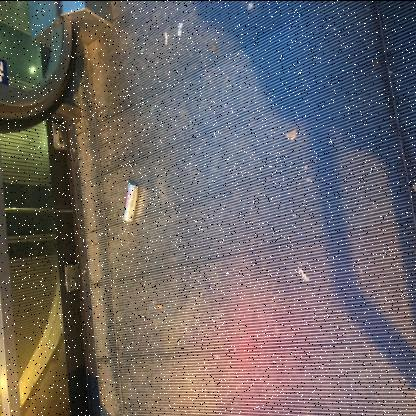metal: (122, 182, 140, 222)
